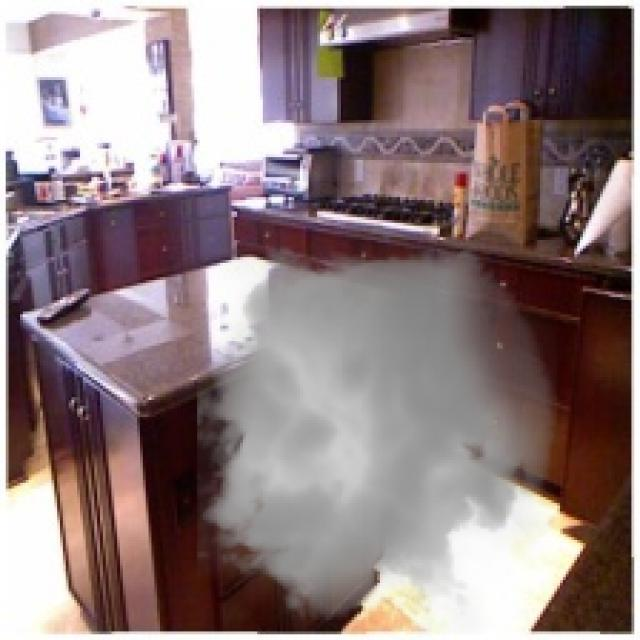smoke: (180, 229, 569, 634)
